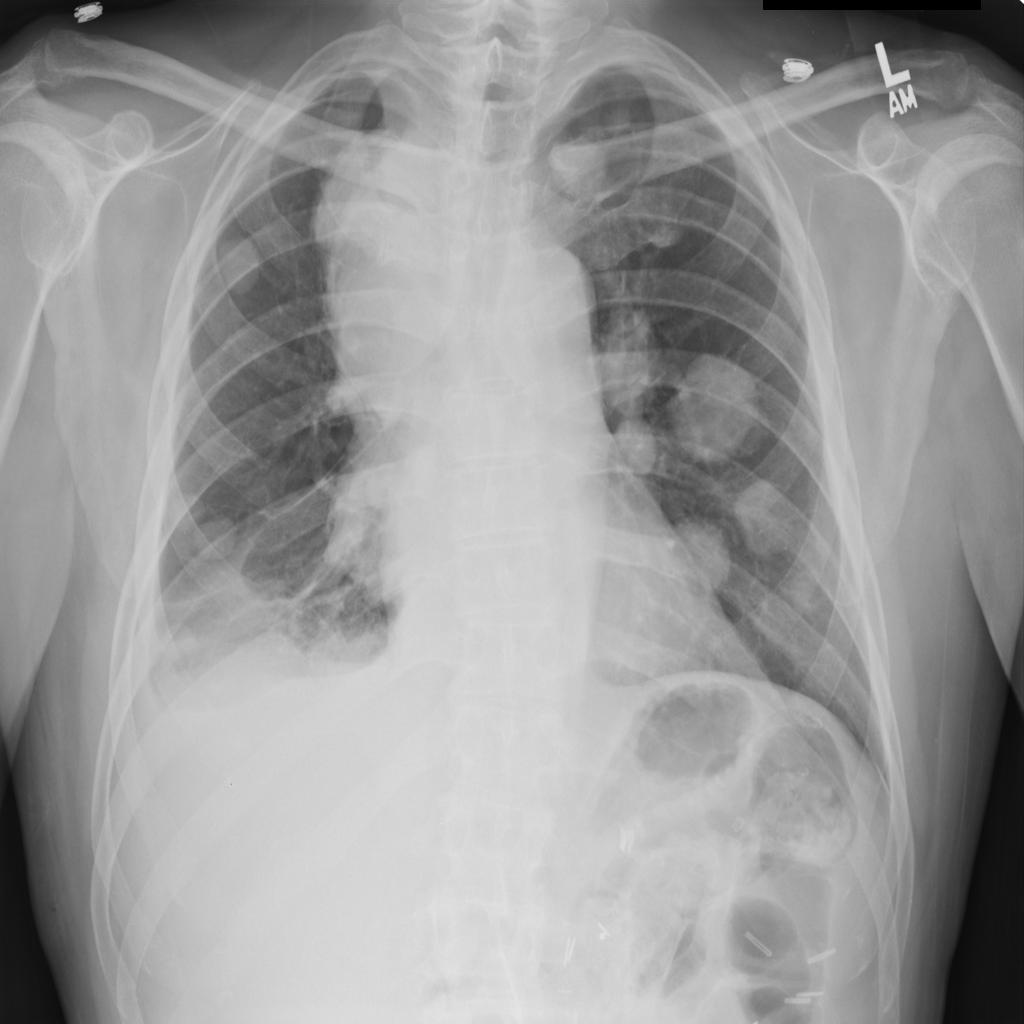nodule: (656, 335, 775, 476), (586, 294, 671, 424), (730, 470, 807, 567), (664, 515, 739, 602), (540, 133, 622, 204), (208, 225, 272, 307), (602, 411, 670, 485), (772, 554, 840, 627), (178, 504, 250, 572), (153, 476, 209, 535), (590, 97, 644, 143), (639, 215, 689, 254)
